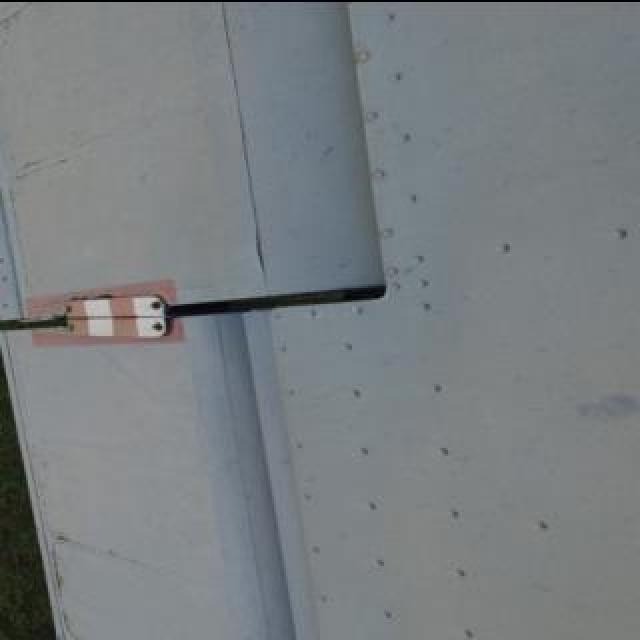dent: (47, 527, 72, 590), (577, 391, 635, 418), (249, 226, 272, 277)
